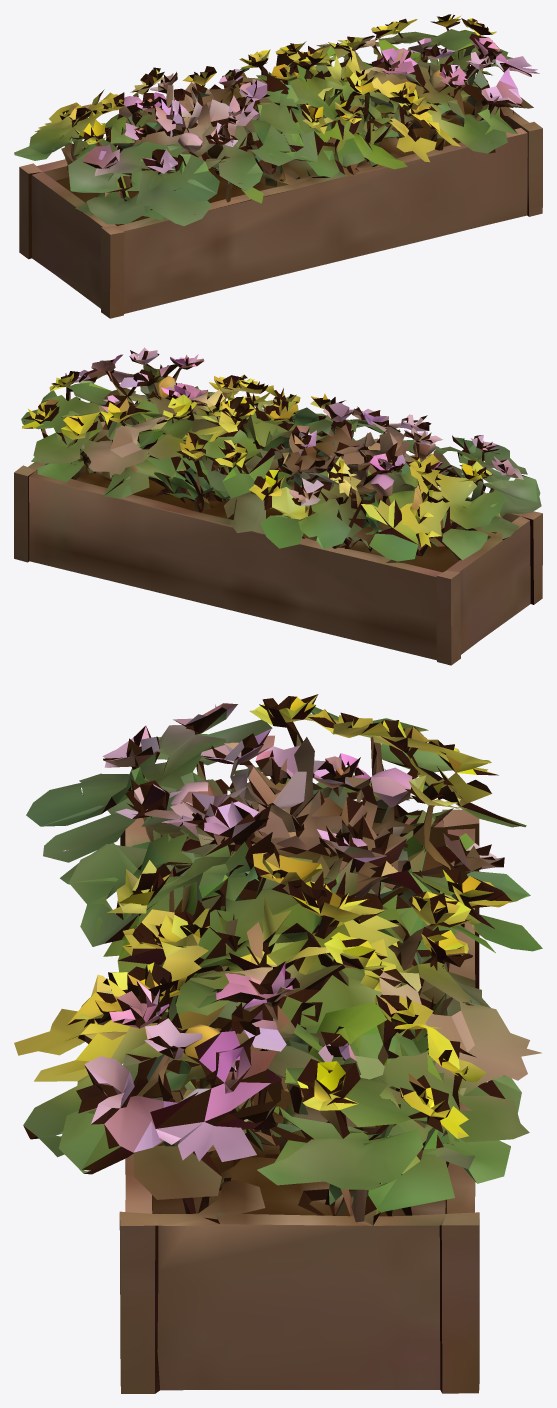
File: FlowerBoxLong.glb
3 views of the same model, one above another, from view 1: azimuth 30°, elevation 25°; view 2: azimuth 150°, elevation 25°; view 3: azimuth 270°, elevation 25° (orthographic). The views are drawn at different scales.
Parts seen in each view (by area): view 1: FlowerBoxLong; view 2: FlowerBoxLong; view 3: FlowerBoxLong.
Boxes of the visible parts, left/top/right/bottom form: FlowerBoxLong: left=14, top=14, right=542, bottom=318; FlowerBoxLong: left=14, top=347, right=542, bottom=665; FlowerBoxLong: left=14, top=694, right=542, bottom=1393.
Bounding box in the file's own units: 1.32 × 0.4649 × 0.6511.
1 material, 1 textured.
